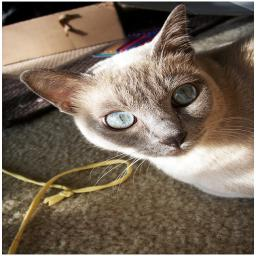catnose: (158, 129, 188, 149)
